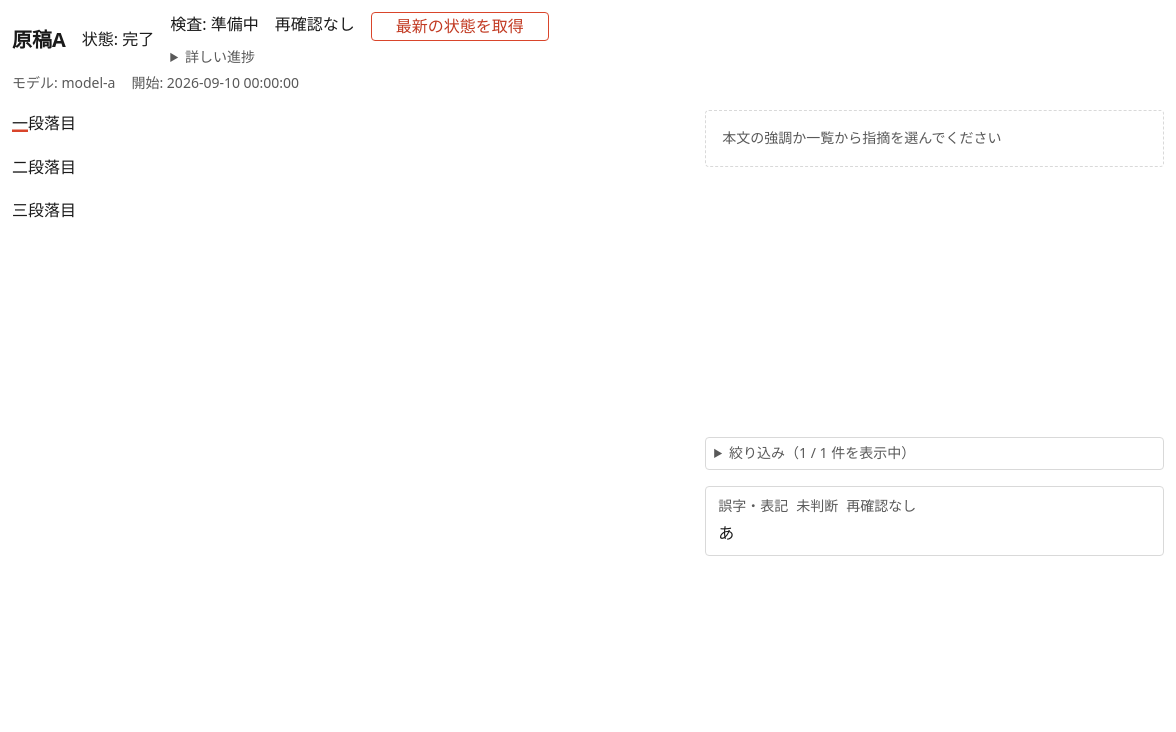
Test case: ResultsPage: Task 8 採否の保存で一覧の行の表示も更新される › 保存に成功すると、一覧を取り直さずに一覧の行の採否表示が応答の JudgmentDto に差し替わる
The image size is (1176, 732).
Expected: the text "1 / 1 件" is shown, [799, 443, 845, 462]
Click the button "誤字・表記 未判断 再確認なし あ" at [753, 505], box [705, 486, 1164, 556]
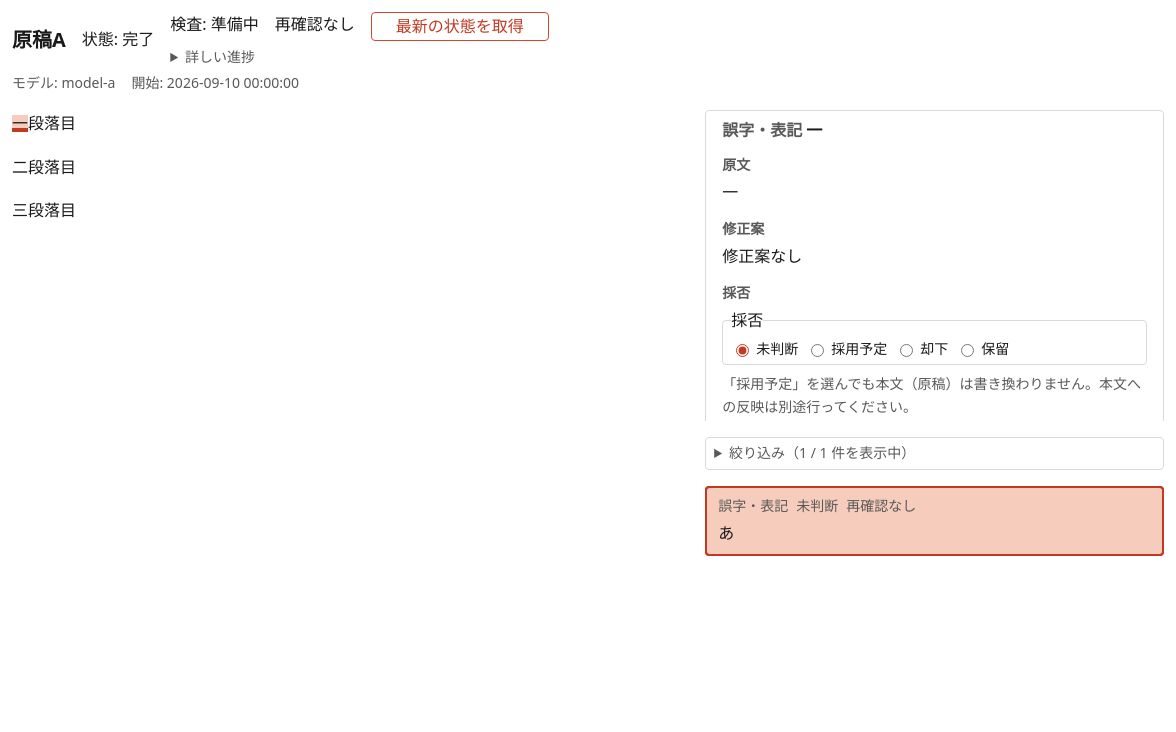
Expected: the text "未判断" is shown, [796, 495, 838, 517]
Click the radio button labelled "却下" at [907, 350], box [900, 344, 913, 357]
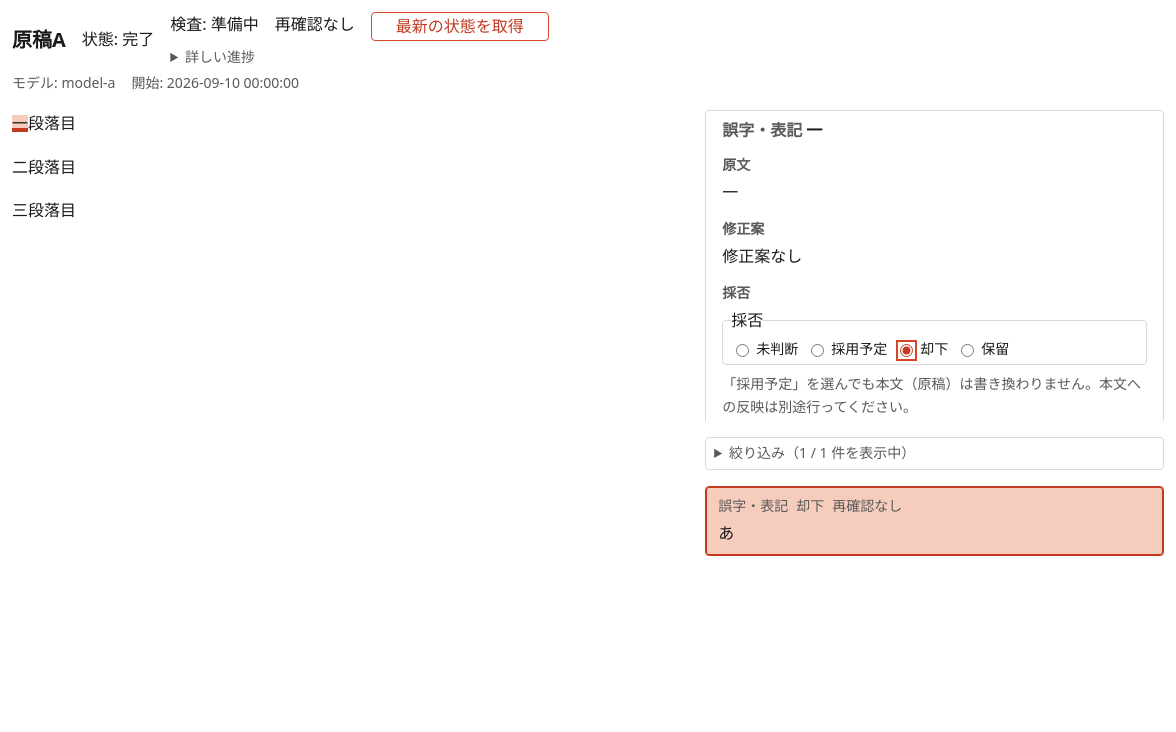
Result: the text "却下" is shown at [796, 495, 824, 517]
